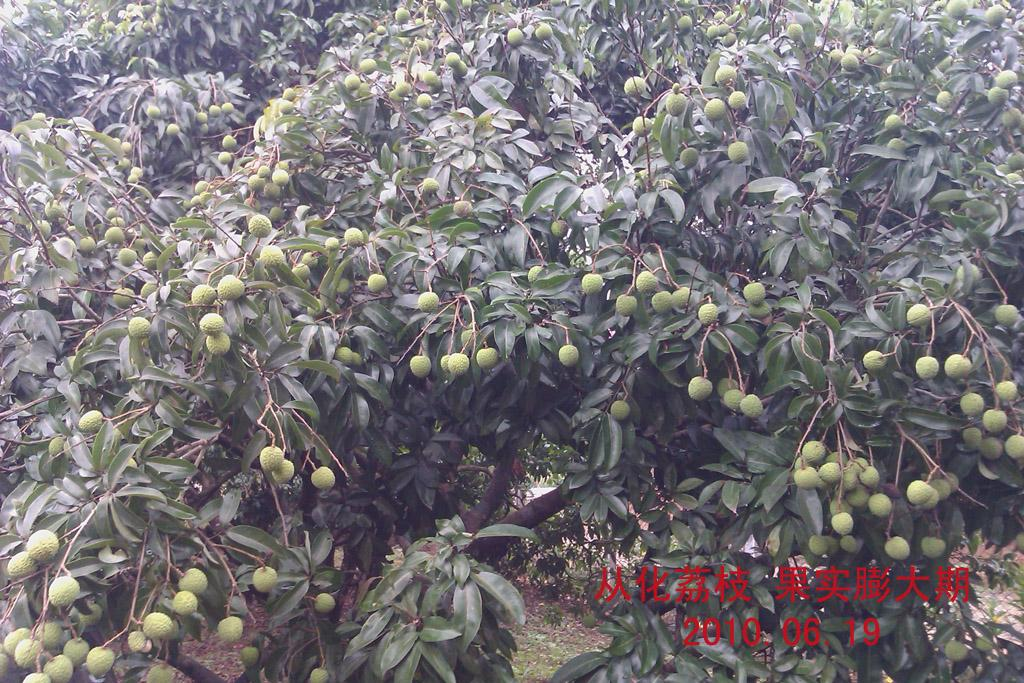果实发育期: (245, 160, 292, 199), (25, 527, 61, 567), (986, 67, 1019, 109), (44, 574, 83, 608), (994, 145, 1024, 188), (7, 549, 41, 582), (943, 349, 974, 382), (683, 373, 717, 403), (989, 300, 1024, 329), (141, 612, 177, 640), (216, 612, 245, 645), (264, 458, 297, 486), (308, 462, 337, 493), (611, 289, 642, 318), (902, 301, 934, 329), (244, 211, 274, 240), (14, 637, 42, 668), (578, 268, 606, 299), (880, 535, 912, 562), (918, 533, 946, 563), (828, 508, 856, 538), (309, 590, 341, 616), (251, 564, 279, 593), (942, 636, 971, 664), (46, 655, 75, 683), (214, 273, 245, 299), (179, 568, 210, 594), (913, 353, 941, 381), (196, 310, 226, 336), (705, 23, 737, 47), (171, 589, 199, 616), (633, 267, 661, 294), (702, 96, 729, 124), (258, 242, 285, 270), (85, 646, 112, 674), (62, 635, 90, 662), (866, 490, 895, 516), (790, 465, 820, 490), (725, 138, 752, 165), (713, 62, 740, 89), (694, 298, 720, 326), (905, 479, 933, 505), (957, 392, 986, 417), (859, 347, 890, 370), (665, 88, 688, 119), (217, 133, 239, 165), (142, 664, 179, 683), (443, 50, 469, 77), (78, 407, 106, 432), (124, 313, 152, 338), (924, 478, 952, 503), (958, 423, 983, 450), (956, 260, 981, 287), (983, 3, 1012, 26), (740, 284, 770, 306), (408, 354, 434, 379), (111, 285, 137, 310), (207, 332, 233, 357), (1001, 105, 1024, 133), (622, 75, 648, 99), (817, 459, 843, 483), (803, 441, 830, 464), (276, 86, 297, 115), (476, 345, 500, 370), (983, 408, 1008, 432), (235, 644, 261, 667), (980, 436, 1003, 462), (192, 283, 216, 307), (632, 112, 655, 137), (724, 88, 749, 111), (503, 24, 526, 49), (1004, 433, 1024, 461), (418, 290, 442, 313), (745, 395, 767, 420), (973, 632, 995, 657), (341, 224, 363, 249), (332, 346, 357, 368), (449, 353, 471, 378), (104, 202, 125, 228), (746, 300, 772, 321), (653, 289, 673, 316), (558, 345, 581, 368), (116, 245, 139, 268), (860, 464, 883, 487), (806, 535, 829, 558), (672, 287, 694, 311), (306, 662, 331, 683), (679, 144, 700, 169), (609, 400, 632, 422), (934, 88, 956, 111), (995, 379, 1018, 401), (43, 198, 66, 219), (524, 262, 545, 285), (786, 21, 807, 43), (547, 218, 570, 238), (368, 271, 388, 294), (136, 279, 159, 299), (102, 225, 126, 244), (942, 1, 972, 16), (836, 52, 857, 73), (421, 68, 442, 89), (391, 4, 412, 25), (290, 262, 312, 282), (531, 22, 554, 41), (840, 533, 863, 552), (47, 434, 68, 454), (419, 177, 441, 196), (452, 199, 474, 218), (358, 55, 378, 75), (883, 113, 904, 132), (142, 249, 159, 271), (886, 136, 909, 152), (343, 72, 362, 91), (77, 234, 96, 253), (126, 166, 144, 185), (322, 234, 341, 252), (308, 149, 326, 168), (413, 92, 433, 109), (221, 133, 238, 153), (676, 14, 694, 31), (164, 121, 181, 138), (144, 104, 161, 119), (194, 121, 211, 136), (195, 179, 210, 196), (396, 83, 413, 98), (116, 157, 135, 169), (222, 101, 236, 117), (120, 139, 134, 154), (209, 101, 222, 117), (196, 110, 210, 122)
